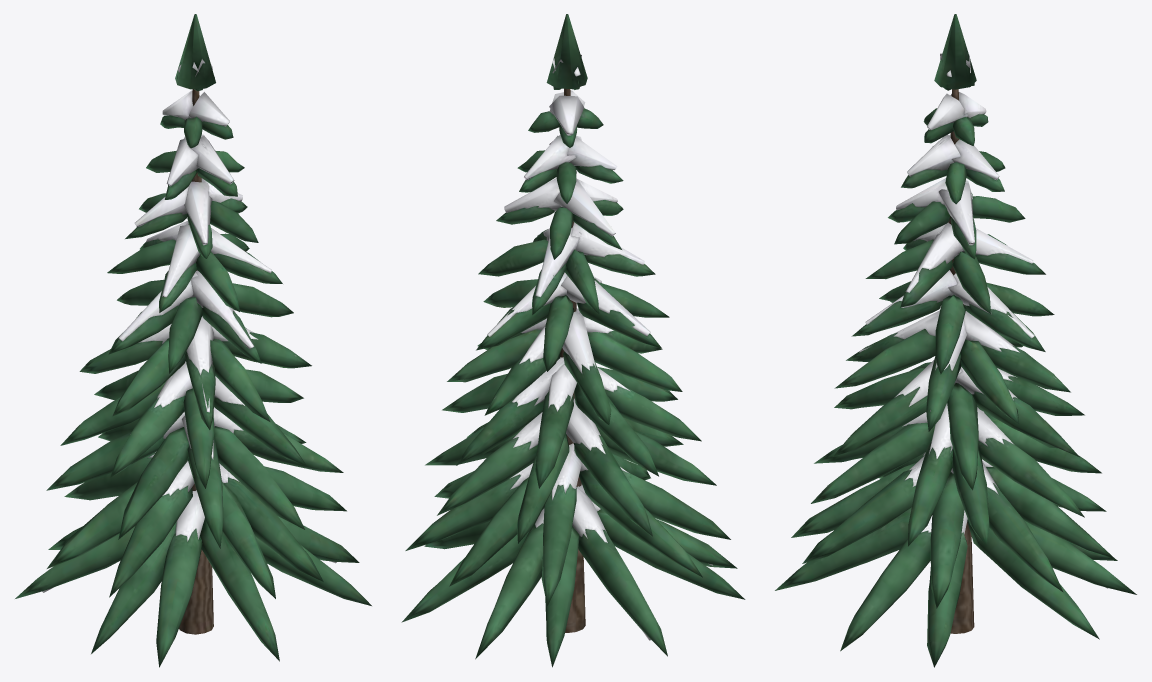
Rendered from pine_snow.glb.
3 views of the same model, side by side, from view 1: azimuth 30°, elevation 25°; view 2: azimuth 150°, elevation 25°; view 3: azimuth 270°, elevation 25° (orthographic).
Parts seen in each view (by area): view 1: pine_snow; view 2: pine_snow; view 3: pine_snow.
Boxes of the visible parts, x1,y1,x2,y2 form: pine_snow: [15, 14, 371, 667]; pine_snow: [401, 14, 745, 667]; pine_snow: [775, 14, 1136, 667].
Size of the model in its own units: 5.63 by 11.11 by 5.97.
Materials: 3 (3 with a texture image).
